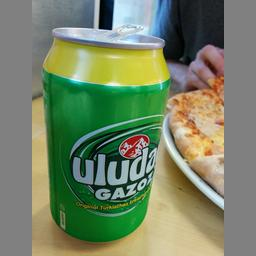soda: (39, 25, 170, 242)
